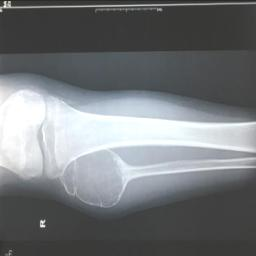cancer: (61, 147, 130, 204)
